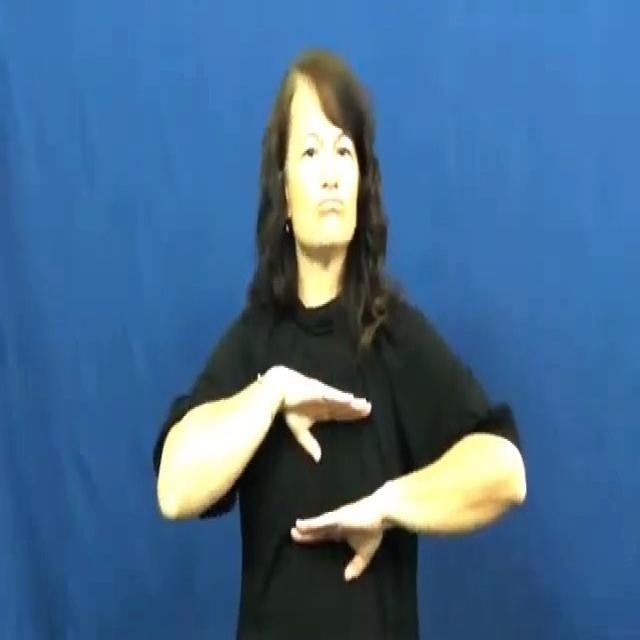enjoy: (244, 353, 425, 590)
